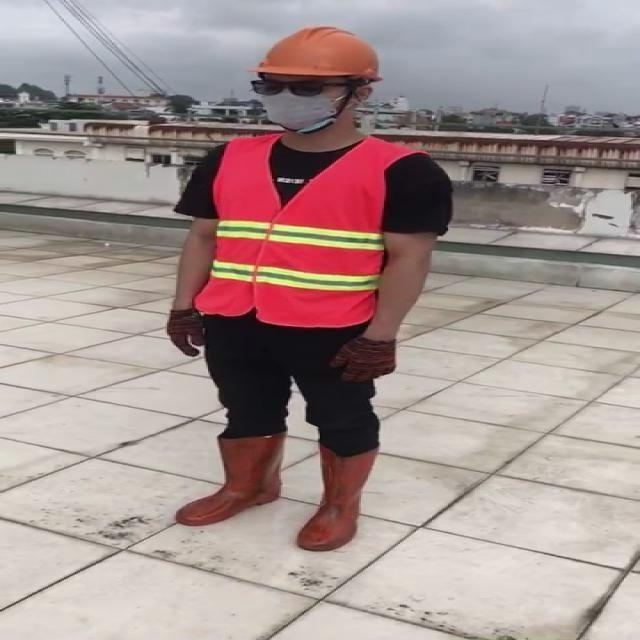10: (152, 21, 466, 554)
11: (197, 134, 384, 327)
2: (246, 6, 401, 171), (331, 319, 429, 409)
helmet_white: (174, 430, 286, 526), (297, 445, 384, 551)
